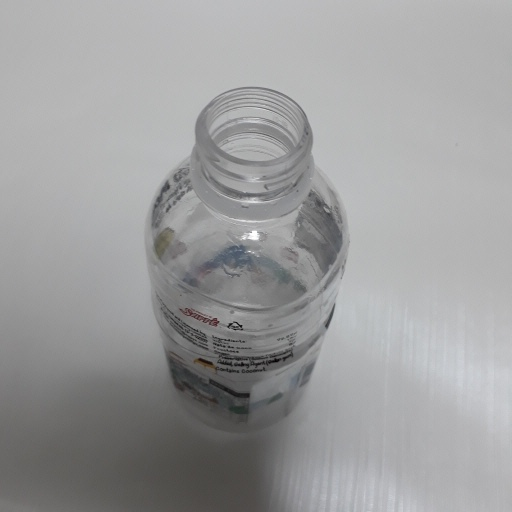Plastic_0: (141, 86, 350, 437)
